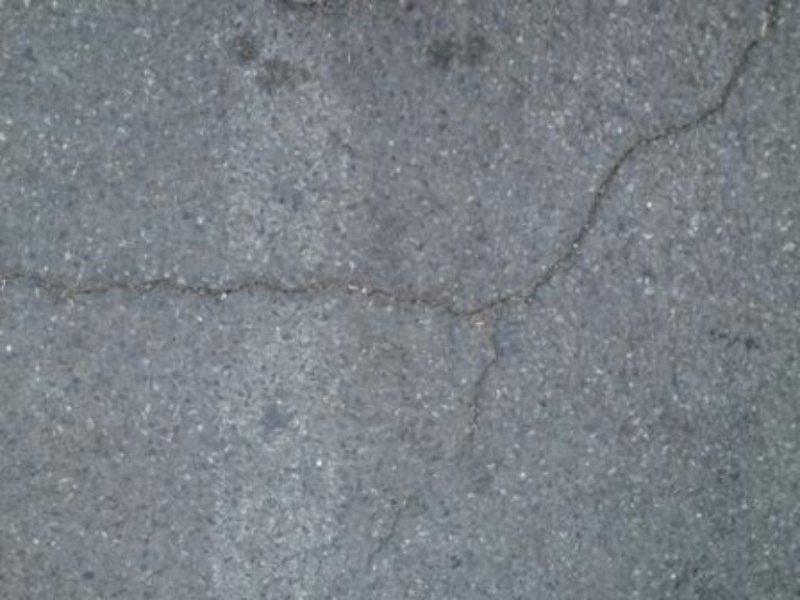crack: (21, 12, 783, 356), (453, 292, 501, 466)
